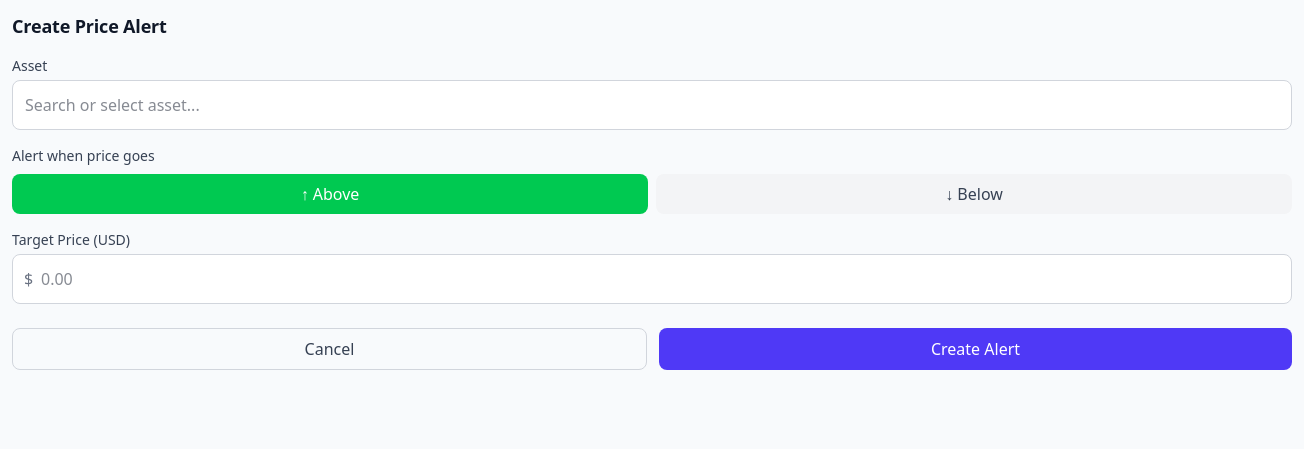
Test: AlertForm › shows error when submitting without selecting a coin
Click the button "Create Alert" at (976, 349), box [659,328,1292,370]
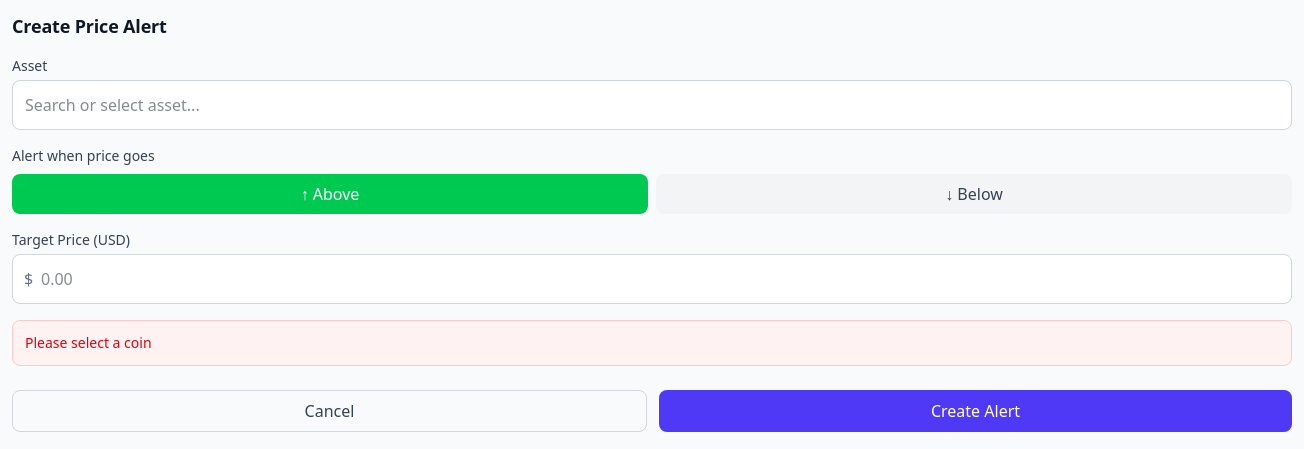
Now the text "Please select a coin" is shown, box [12,320,1292,366]
